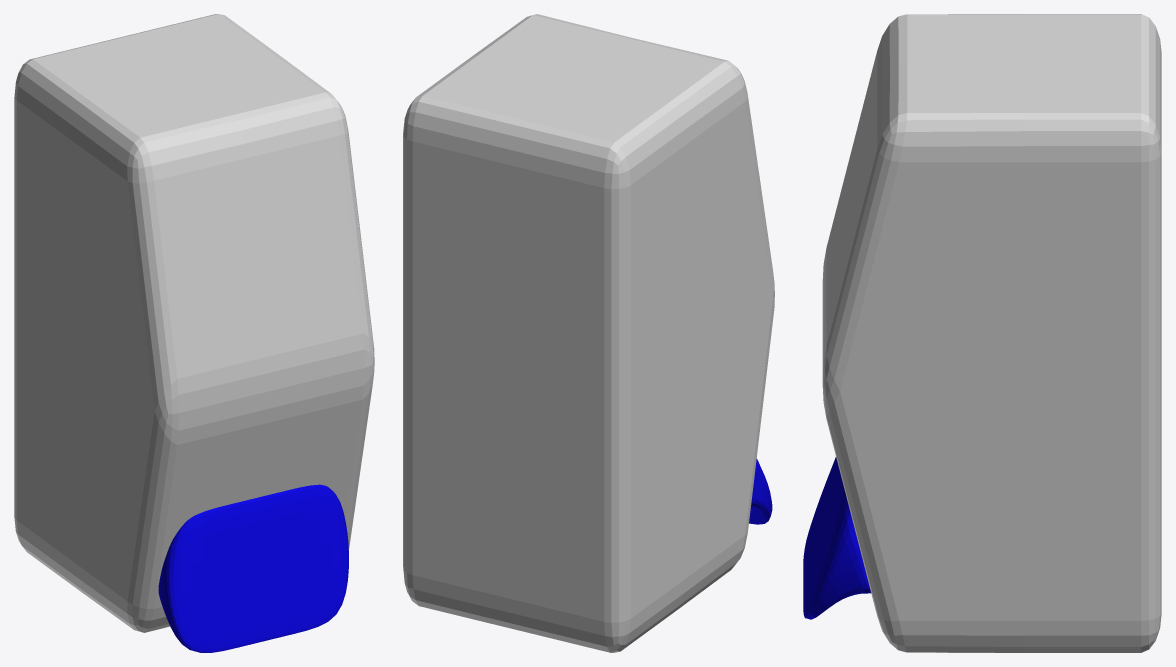
File: HandSoap.fbx
The picture shows the model from 3 angles, left to right: view 1: azimuth 30°, elevation 25°; view 2: azimuth 150°, elevation 25°; view 3: azimuth 270°, elevation 25°; orthographic projection. The views are drawn at different scales.
Parts seen in each view (by area): view 1: HandSoap, Cube.003; view 2: HandSoap, Cube.003; view 3: HandSoap, Cube.003.
Boxes of the visible parts, bbox=[...] form: HandSoap: bbox=[14, 14, 374, 632]; Cube.003: bbox=[158, 484, 348, 652]; HandSoap: bbox=[403, 14, 774, 652]; Cube.003: bbox=[749, 458, 772, 524]; HandSoap: bbox=[822, 14, 1161, 652]; Cube.003: bbox=[803, 457, 870, 619].
Size of the model in its own units: 17.78 by 23.17 by 38.47.
